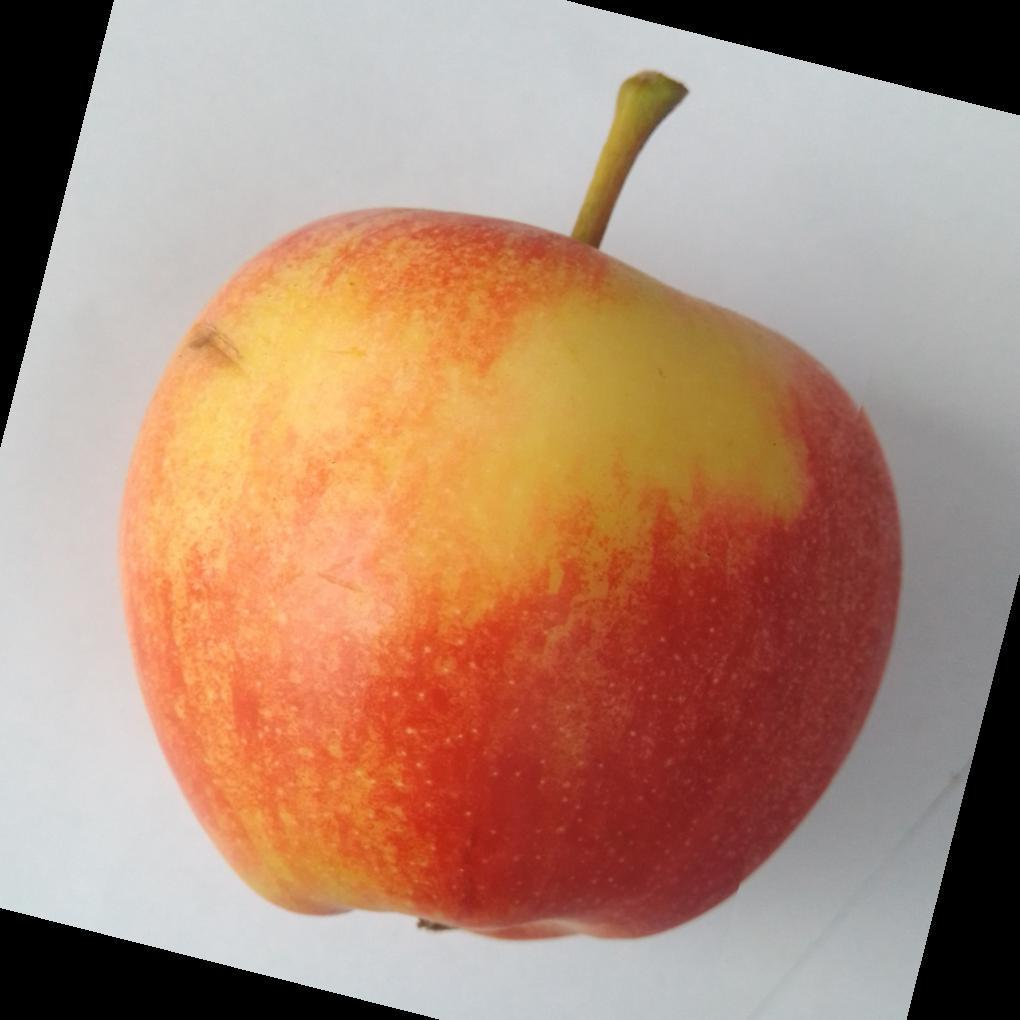FreshGuava: (115, 209, 904, 947)
